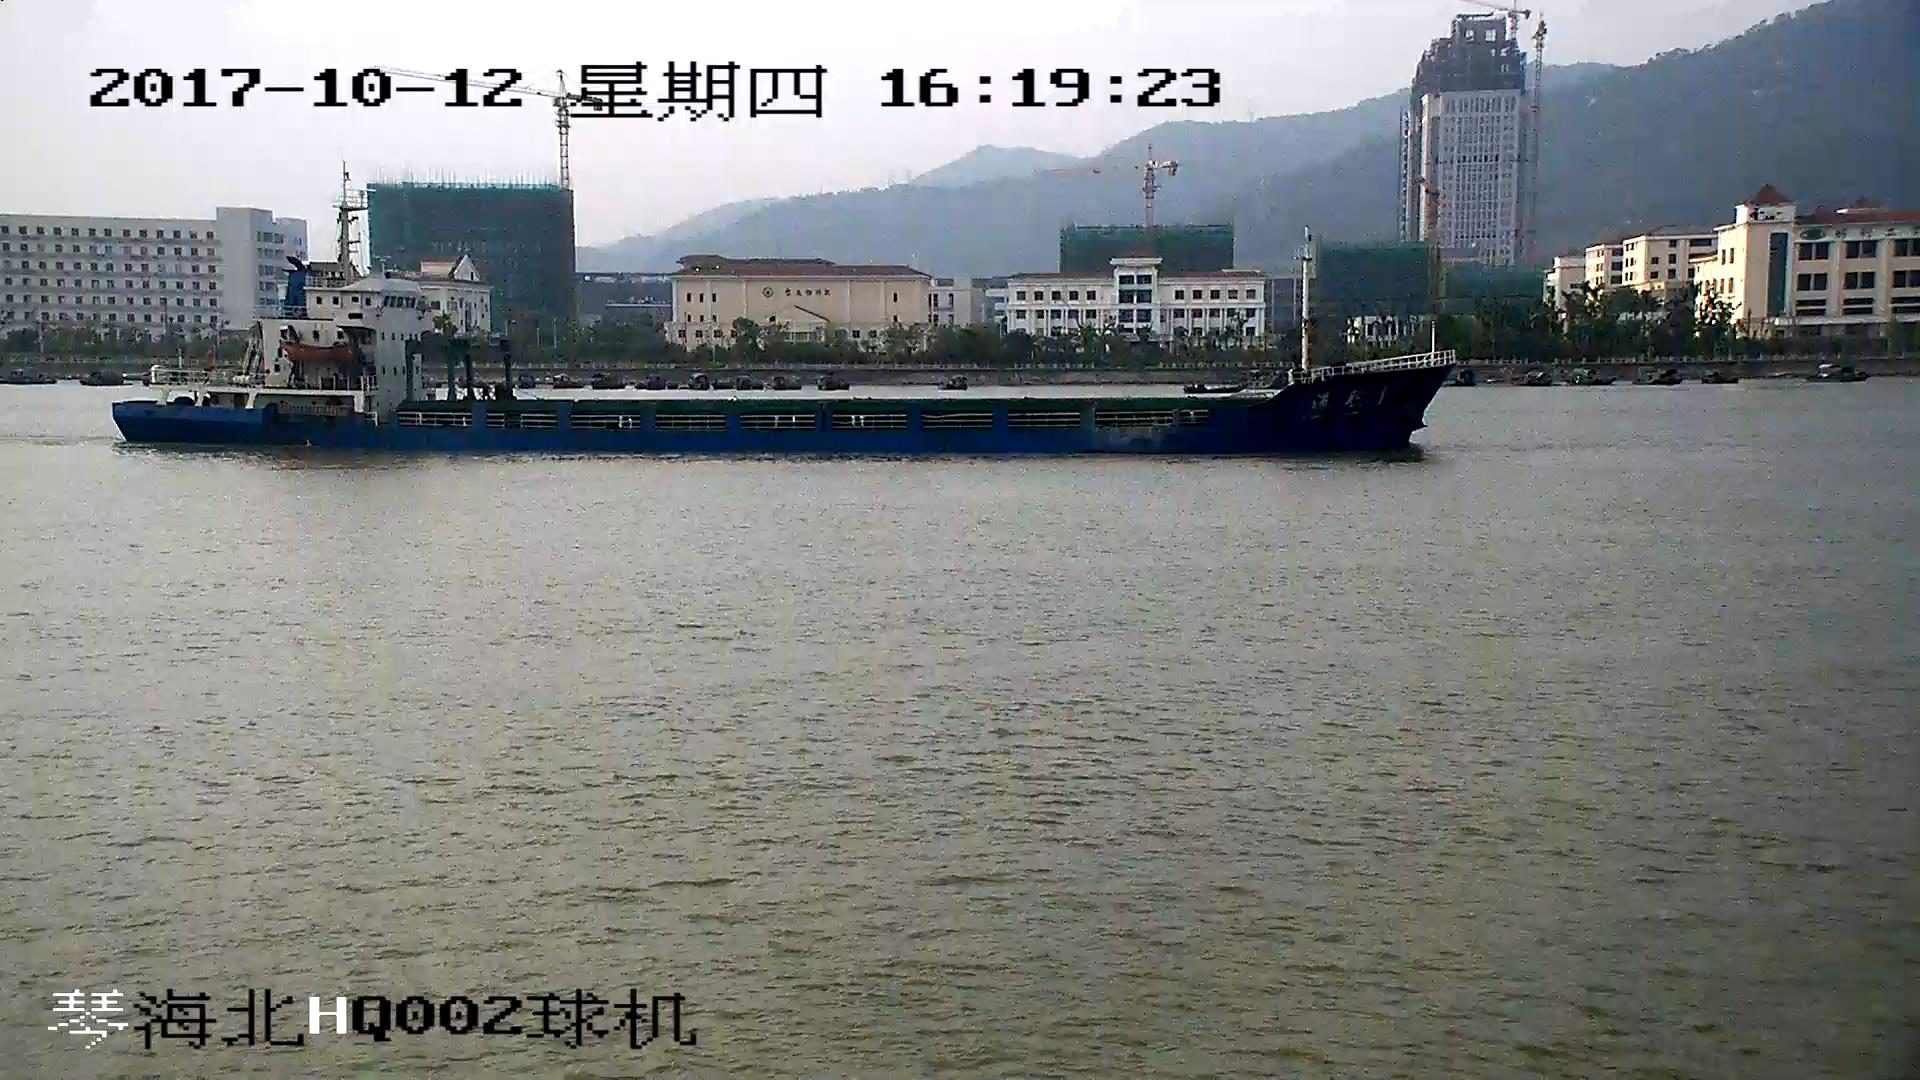general cargo ship: (117, 172, 1461, 460)
